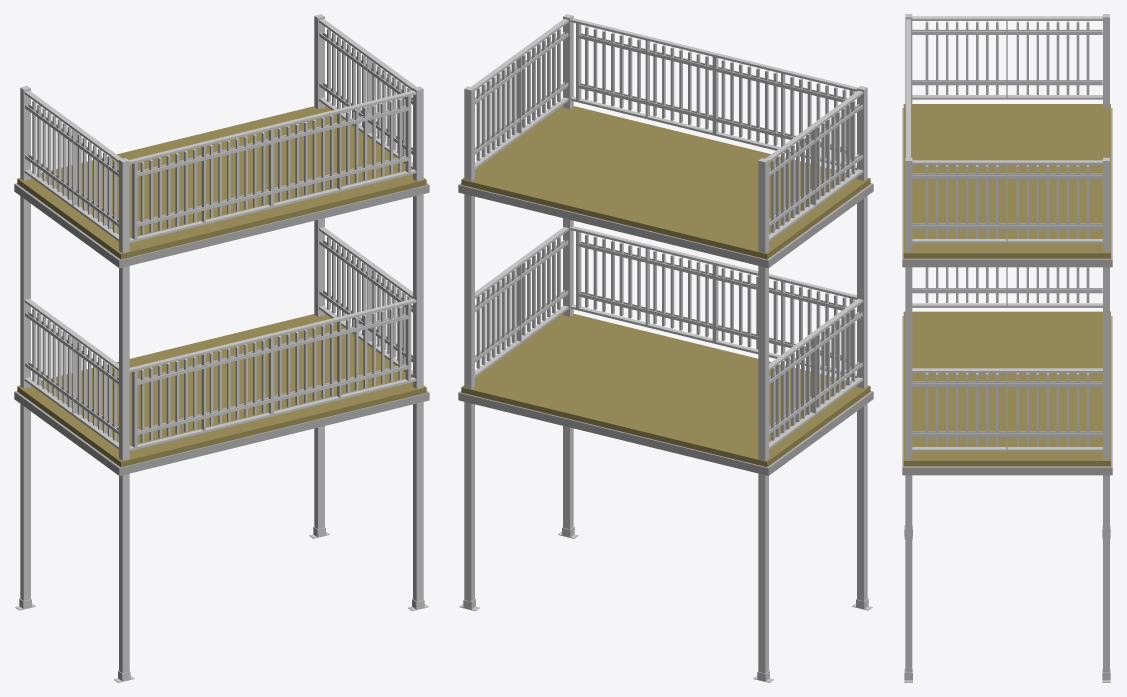
The model's file is Balcony.fbx.
3 renders of one model, left to right at view 1: azimuth 30°, elevation 25°; view 2: azimuth 150°, elevation 25°; view 3: azimuth 270°, elevation 25°, orthographic.
Visible parts, largest first — view 1: Mesh_2, Mesh_0, Mesh_1; view 2: Mesh_2, Mesh_0, Mesh_1; view 3: Mesh_0, Mesh_2, Mesh_1.
Part boxes in pixels (bbox=[...]): Mesh_2: bbox=[15, 14, 428, 682]; Mesh_0: bbox=[17, 105, 426, 467]; Mesh_1: bbox=[14, 183, 429, 475]; Mesh_2: bbox=[459, 14, 872, 682]; Mesh_0: bbox=[461, 105, 870, 466]; Mesh_1: bbox=[458, 183, 873, 475]; Mesh_0: bbox=[903, 104, 1110, 466]; Mesh_2: bbox=[904, 14, 1110, 682]; Mesh_1: bbox=[902, 108, 1112, 475].
Bounding box in the file's own units: 1737 × 2776 × 1017.
